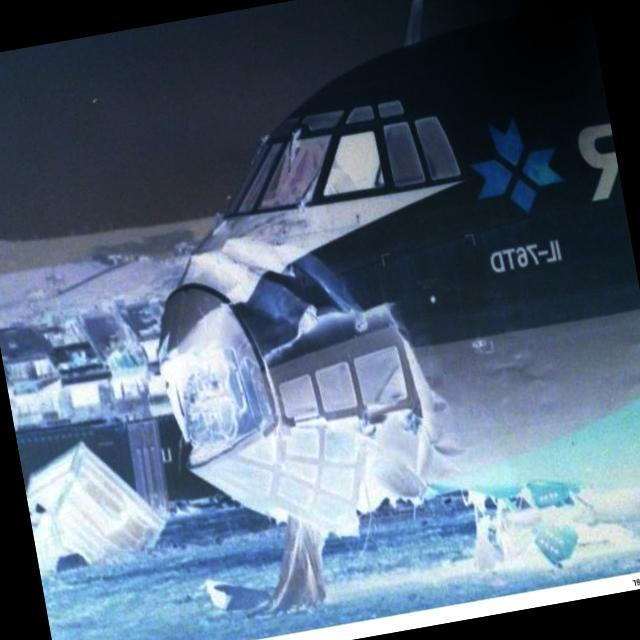dent: (419, 387, 465, 462)
